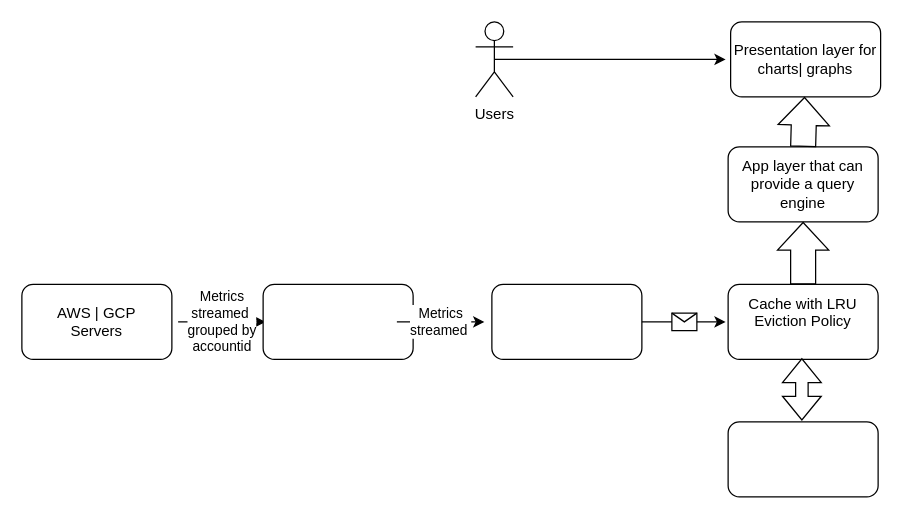
The diagram is 903 pixels wide and 519 high, and some of its shapes have lost their labels. The box of each missing label's shape, as (x1, y1, x2, y2) in pixels:
Highly available TSV DB: (727, 421, 878, 497)
Highly Avlbl Kafa Broker Cluster: (262, 283, 413, 359)
Stateless Clustered kafka consumer to persist metrics in cache: (491, 283, 642, 359)
